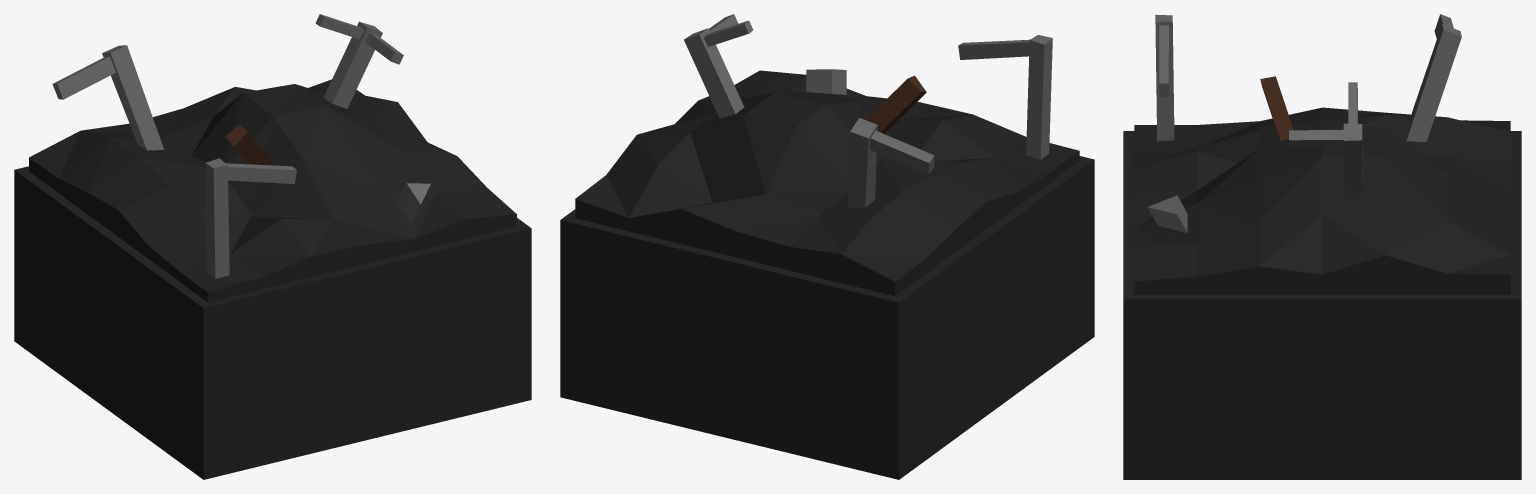
The model's file is DBuilding.fbx.
3 views of the same model, side by side, from view 1: azimuth 30°, elevation 25°; view 2: azimuth 150°, elevation 25°; view 3: azimuth 270°, elevation 25° (orthographic). The views are drawn at different scales.
Parts seen in each view (by area): view 1: Cube.003; view 2: Cube.003; view 3: Cube.003.
Boxes of the visible parts, left/top/right/bottom form: Cube.003: left=14, top=14, right=531, bottom=479; Cube.003: left=560, top=14, right=1094, bottom=479; Cube.003: left=1123, top=14, right=1521, bottom=479.
Bounding box in the file's own units: 200 × 192 × 200.
1 material, 1 textured.
